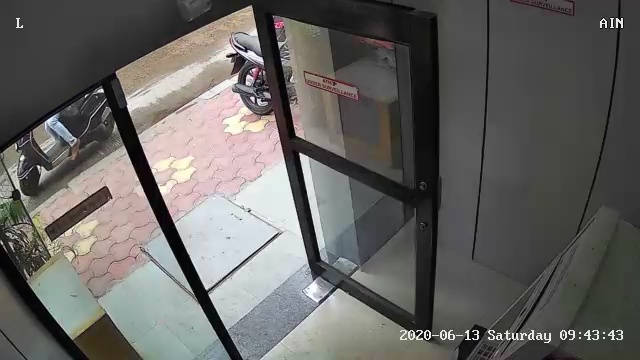open: (95, 2, 449, 355)
